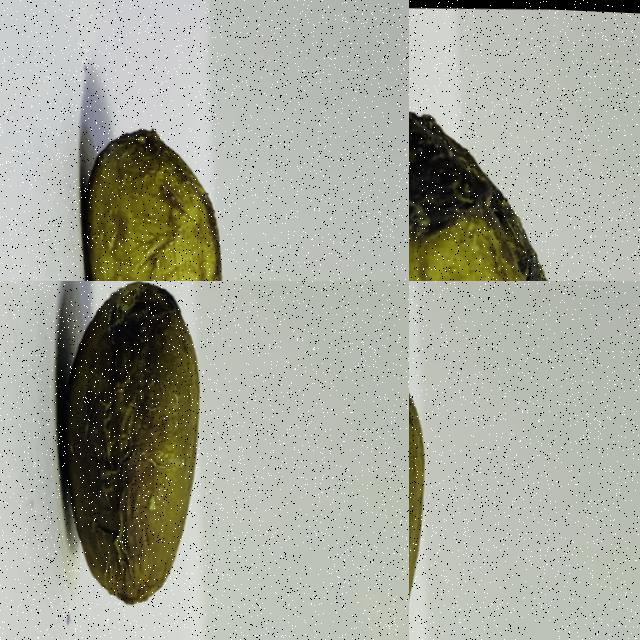Agglomerated_cocoabeans: (409, 12, 580, 280)
Fine_cocoabeans: (0, 281, 259, 639), (35, 22, 261, 280), (409, 281, 484, 639)
